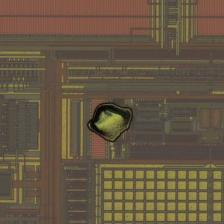COATING BAD: (87, 100, 138, 146)
